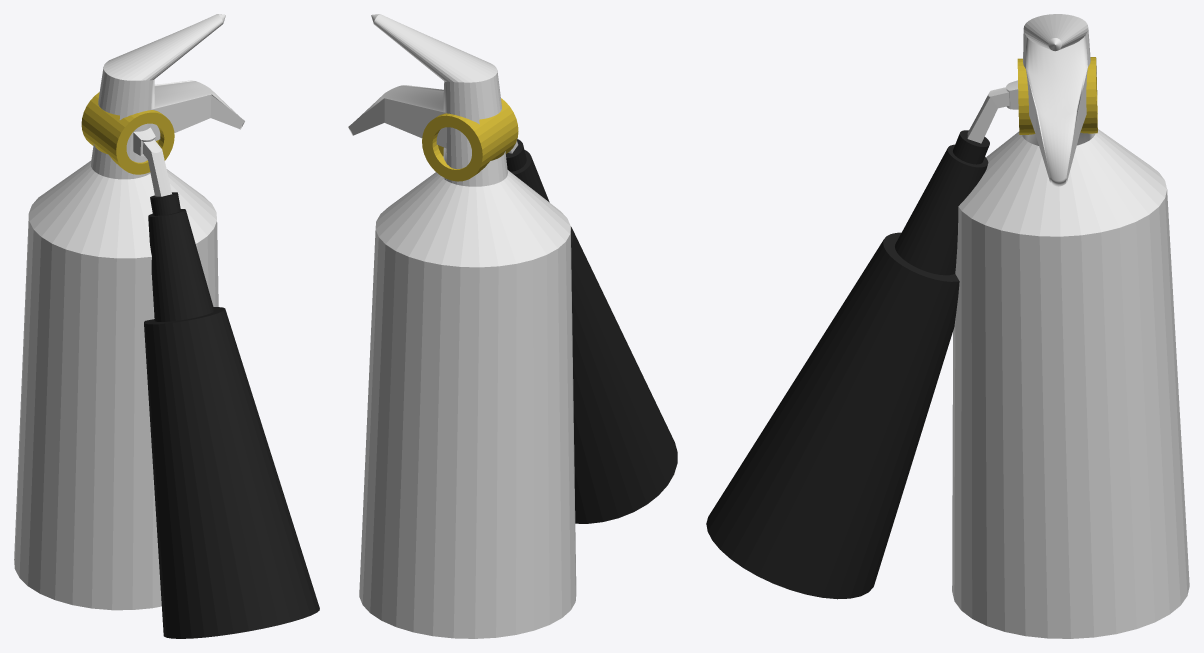
Rendered from gary_ext.fbx.
3 renders of one model, left to right at view 1: azimuth 30°, elevation 25°; view 2: azimuth 150°, elevation 25°; view 3: azimuth 270°, elevation 25°, orthographic. The views are drawn at different scales.
Parts seen in each view (by area): view 1: ext, ext.001; view 2: ext, ext.001; view 3: ext, ext.001.
Part boxes in pixels (x1=…): ext: x1=14, y1=14, x2=244, y2=610; ext.001: x1=133, y1=127, x2=319, y2=638; ext: x1=348, y1=14, x2=576, y2=638; ext.001: x1=506, y1=139, x2=677, y2=523; ext: x1=952, y1=14, x2=1189, y2=638; ext.001: x1=706, y1=80, x2=1018, y2=599.
Bounding box in the file's own units: 857 × 2085 × 1511.
